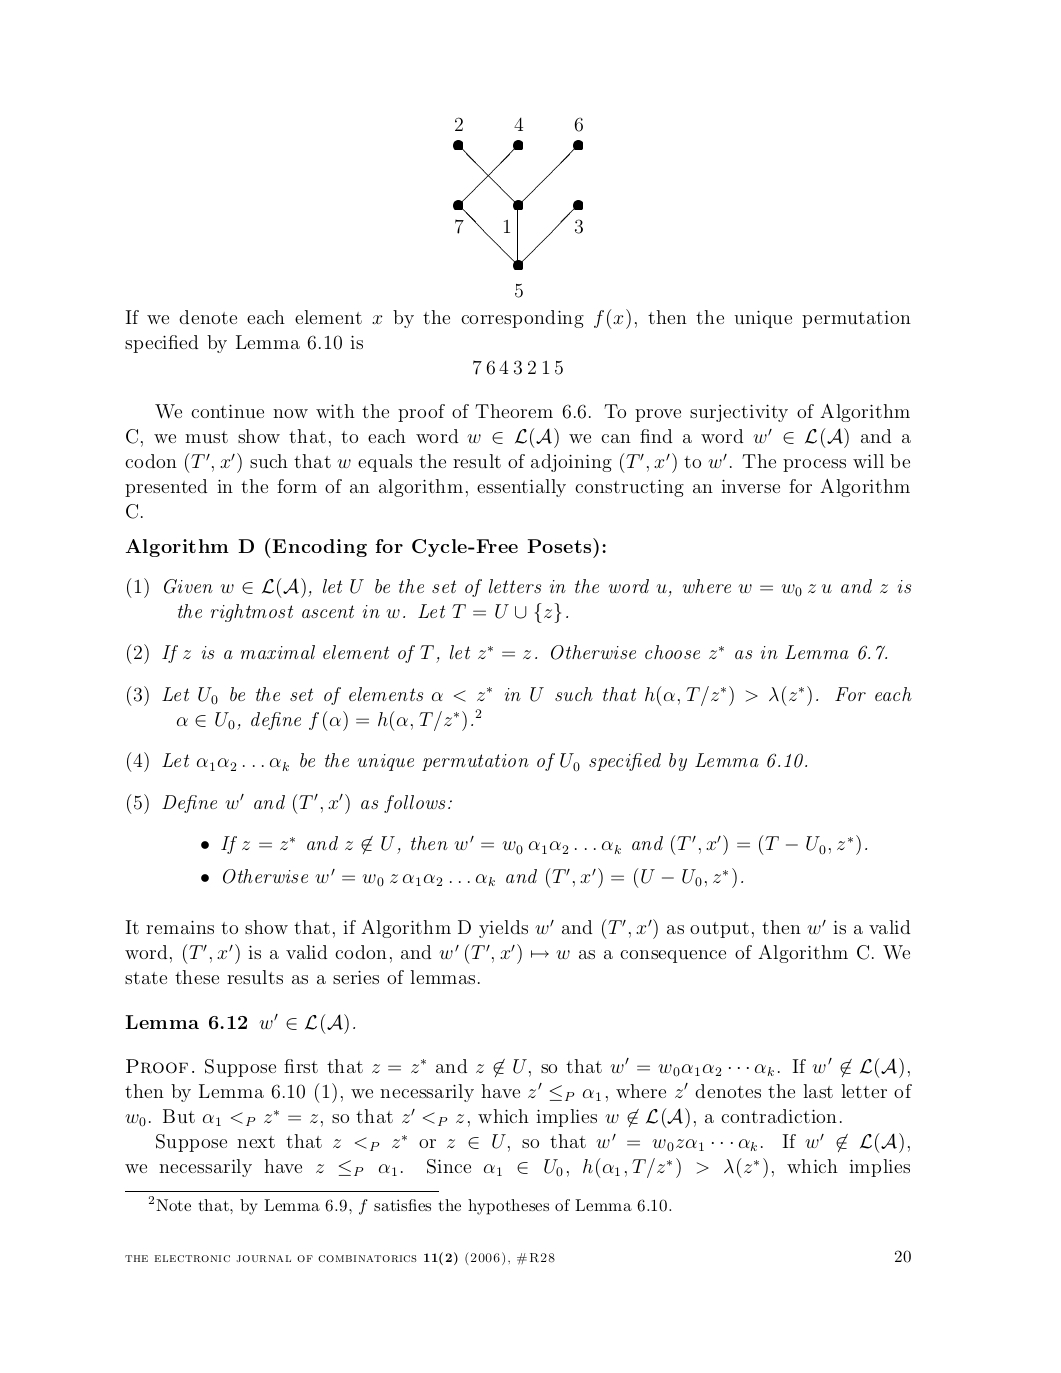figure: (452, 117, 582, 296)
formula: (473, 359, 562, 374)
